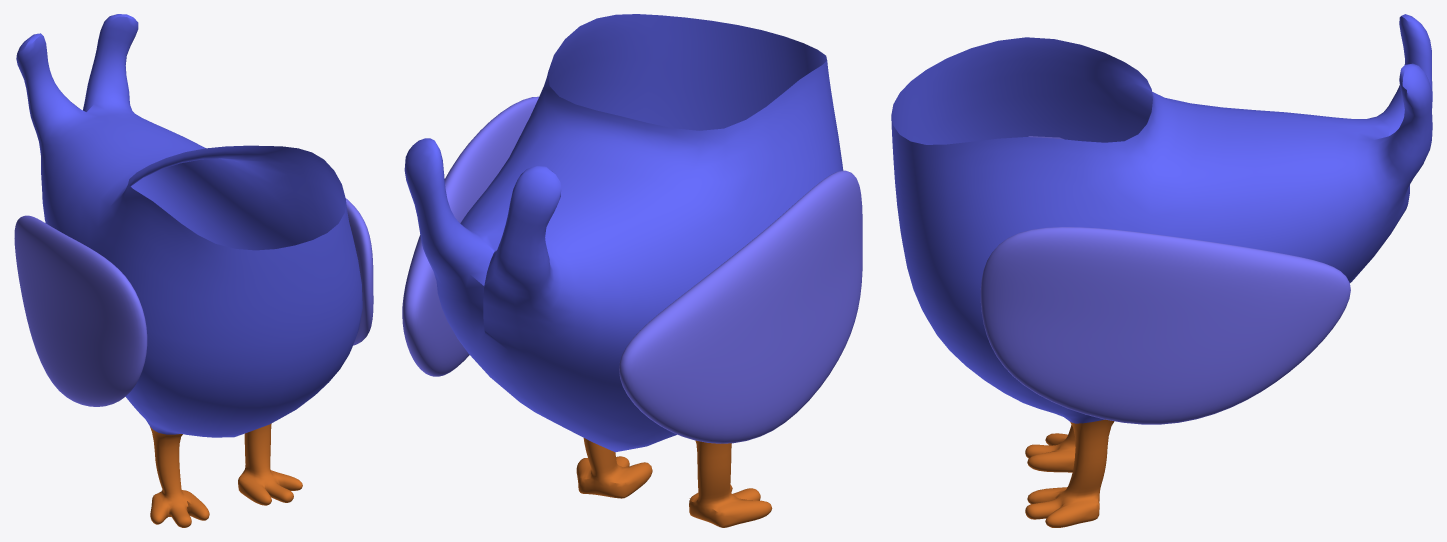
The model's file is pigeonBody.glb.
The picture shows the model from 3 angles, left to right: view 1: azimuth 30°, elevation 25°; view 2: azimuth 150°, elevation 25°; view 3: azimuth 270°, elevation 25°; orthographic projection. The views are drawn at different scales.
Parts seen in each view (by area): view 1: cuerpo_5, winds_3; view 2: cuerpo_5, winds_3; view 3: cuerpo_5, winds_3.
Part boxes in pixels (x1,y1,x2,y2): cuerpo_5: [16, 14, 362, 527]; winds_3: [14, 198, 373, 406]; cuerpo_5: [404, 14, 843, 527]; winds_3: [402, 96, 862, 443]; cuerpo_5: [891, 14, 1432, 527]; winds_3: [980, 136, 1350, 424].
Bounding box in the file's own units: 1.79 × 2.42 × 2.65.
